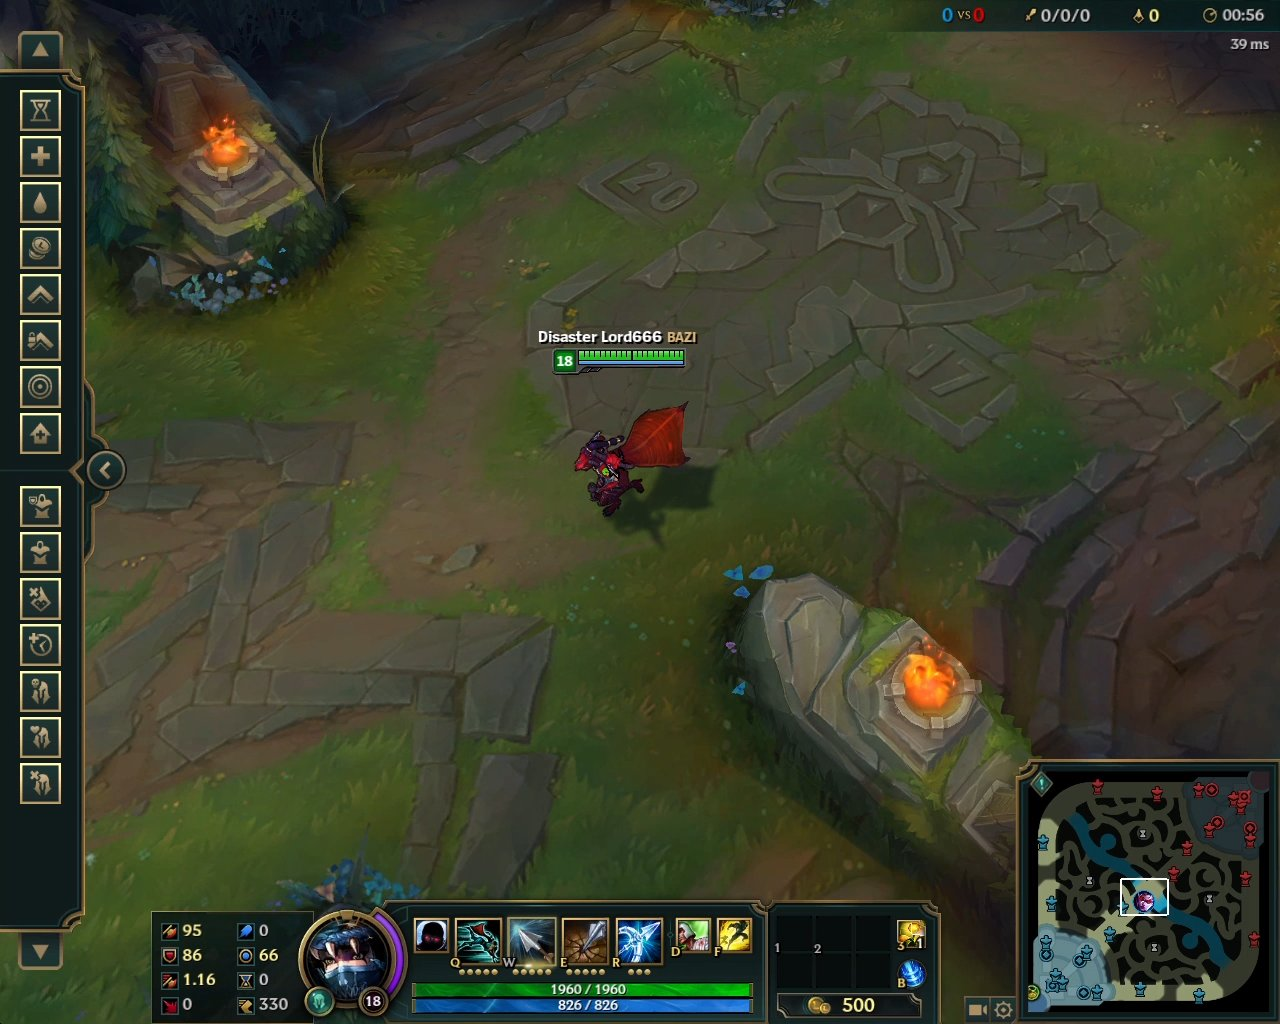Vayne: (563, 396, 698, 529)
